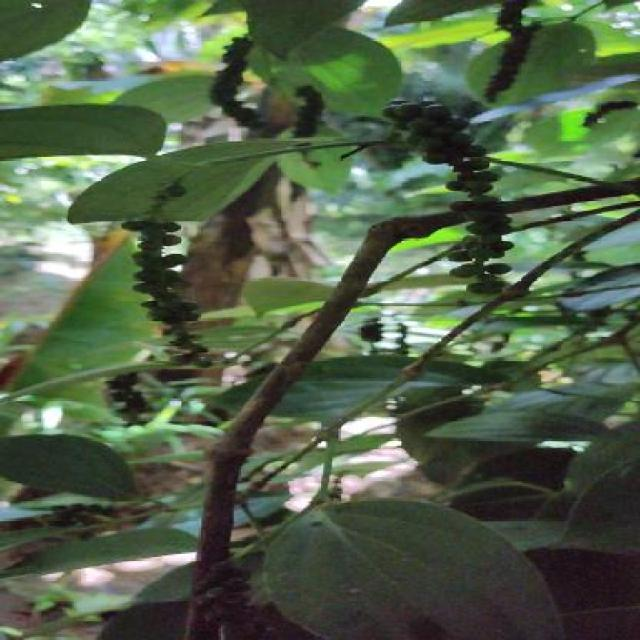UNRIPE: (380, 97, 514, 294), (119, 183, 210, 368), (209, 40, 266, 131), (483, 3, 531, 100), (192, 560, 254, 626), (103, 374, 149, 425), (289, 85, 325, 136), (42, 505, 109, 526)
